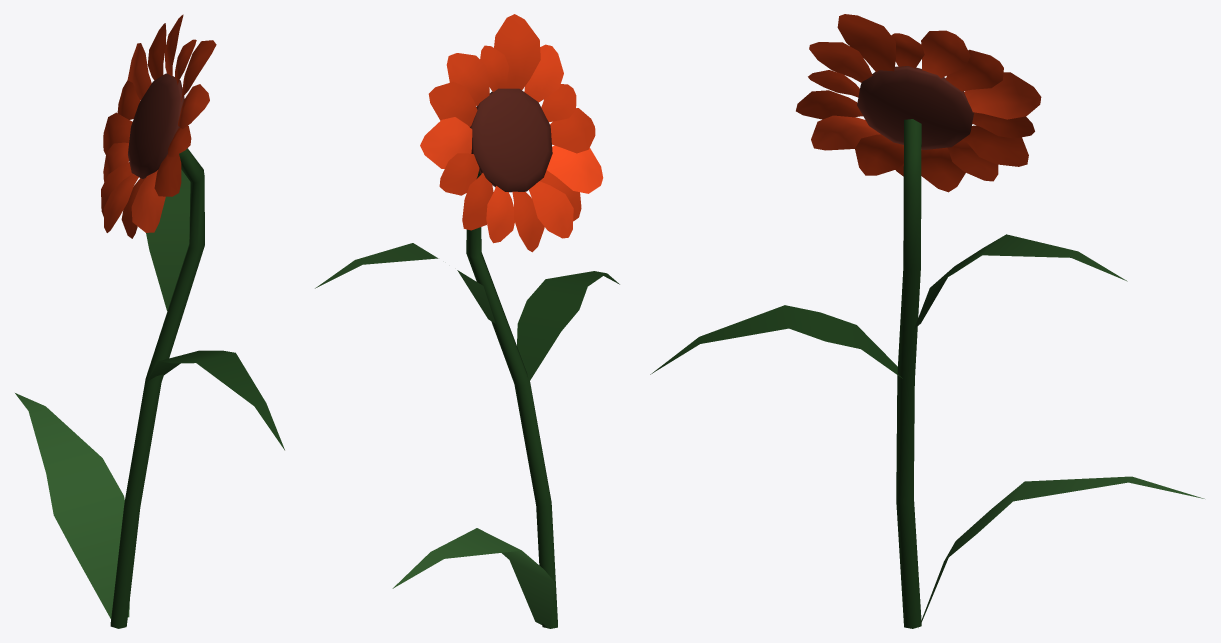
The model's file is red_flower.fbx.
The picture shows the model from 3 angles, left to right: view 1: azimuth 30°, elevation 25°; view 2: azimuth 150°, elevation 25°; view 3: azimuth 270°, elevation 25°; orthographic projection. The views are drawn at different scales.
Parts seen in each view (by area): view 1: red_plant; view 2: red_plant; view 3: red_plant.
Part boxes in pixels (<box>): red_plant: <box>15,14,284,628</box>; red_plant: <box>315,14,619,628</box>; red_plant: <box>650,14,1204,628</box>.
Bounding box in the file's own units: 3.56 × 11.52 × 9.
